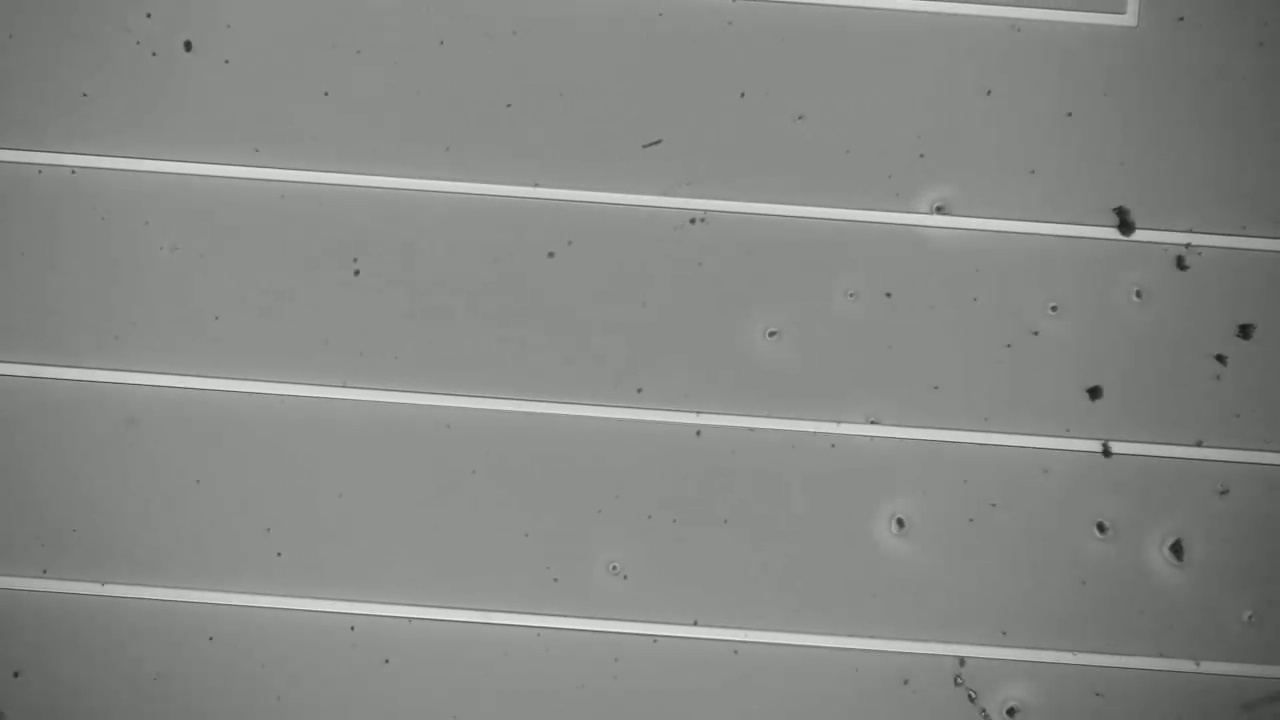stains_enbedded: (1103, 203, 1137, 252), (1092, 429, 1120, 465)
